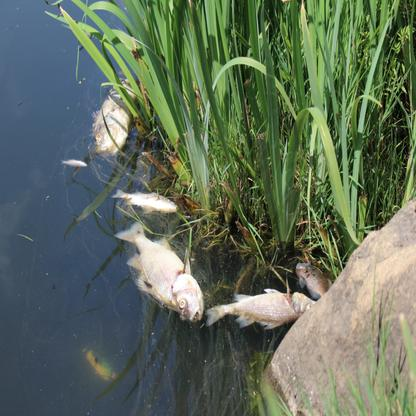deceased fish: (114, 222, 202, 321), (201, 287, 318, 328), (89, 76, 139, 156), (114, 186, 178, 213), (296, 260, 332, 300), (58, 158, 87, 169)
